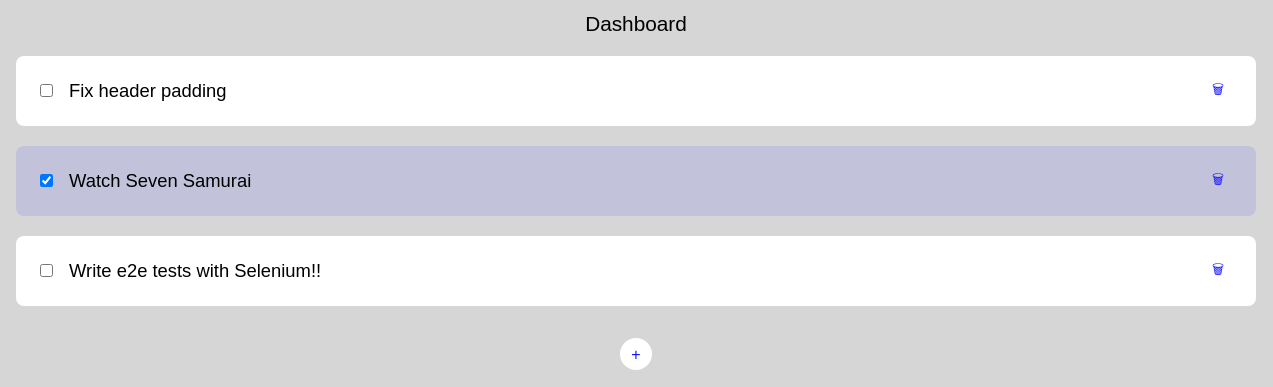
Test: Delete todo › deletes todo by pushing discard button
Expected: the link "Fix header padding" is shown, [69, 80, 226, 101]
Click the button "🗑" in the row of "Fix header padding": x=1218, y=91 [1200, 76, 1236, 106]
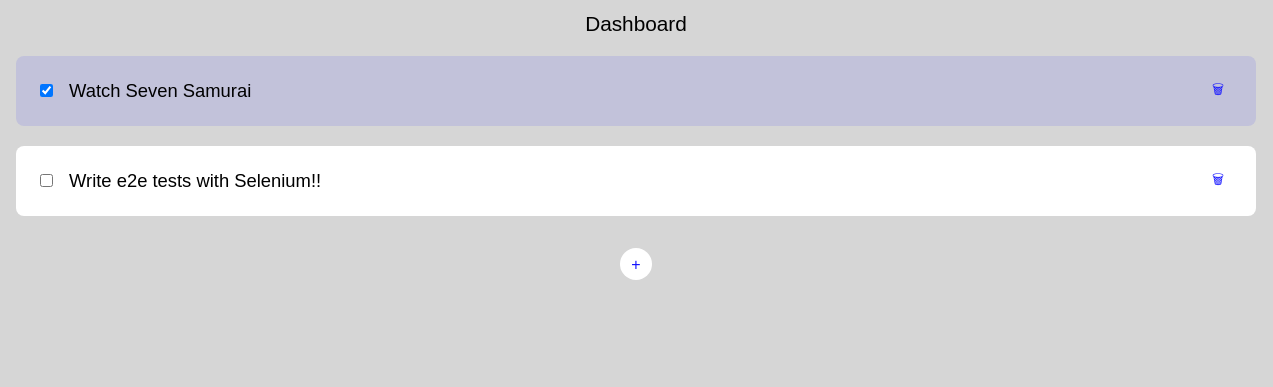
Now the link "Fix header padding" is gone
